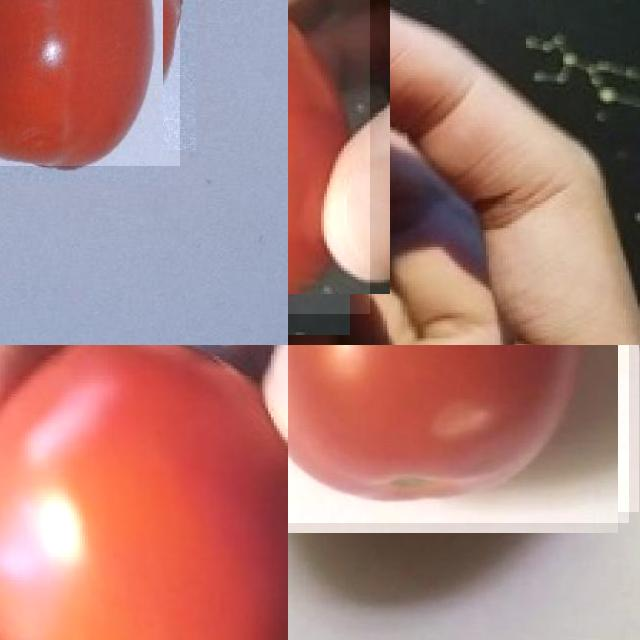Fresh Tomato: (0, 345, 288, 640), (288, 345, 629, 522), (0, 0, 179, 166), (288, 0, 370, 314)
